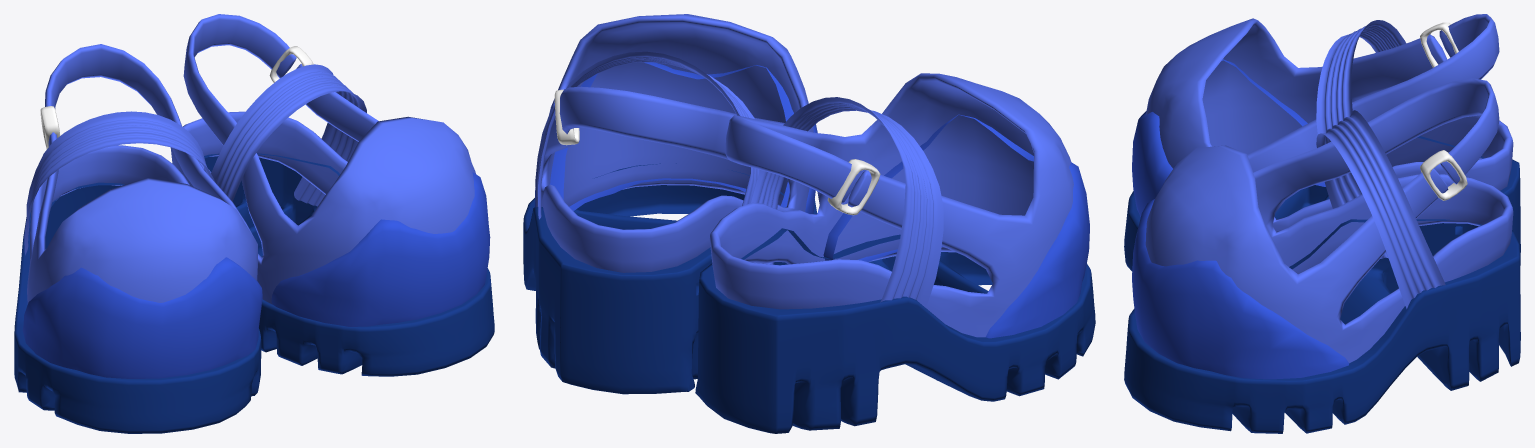
File: Pumps_Hill_Blue.glb
The picture shows the model from 3 angles, left to right: view 1: azimuth 30°, elevation 25°; view 2: azimuth 150°, elevation 25°; view 3: azimuth 270°, elevation 25°; orthographic projection. The views are drawn at different scales.
Parts seen in each view (by area): view 1: Pumps_Hill; view 2: Pumps_Hill; view 3: Pumps_Hill.
Part boxes in pixels (x1,y1,x2,y2): Pumps_Hill: [14, 14, 494, 433]; Pumps_Hill: [523, 14, 1095, 433]; Pumps_Hill: [1124, 14, 1520, 433].
Bounding box in the file's own units: 0.0395 × 0.0214 × 0.0287.
